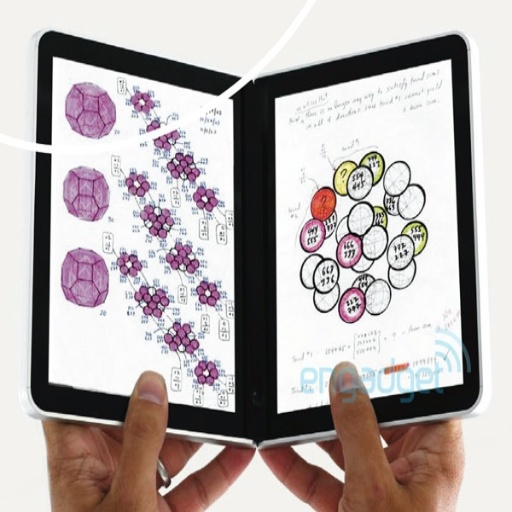hand: (40, 367, 256, 509), (276, 372, 481, 504)
